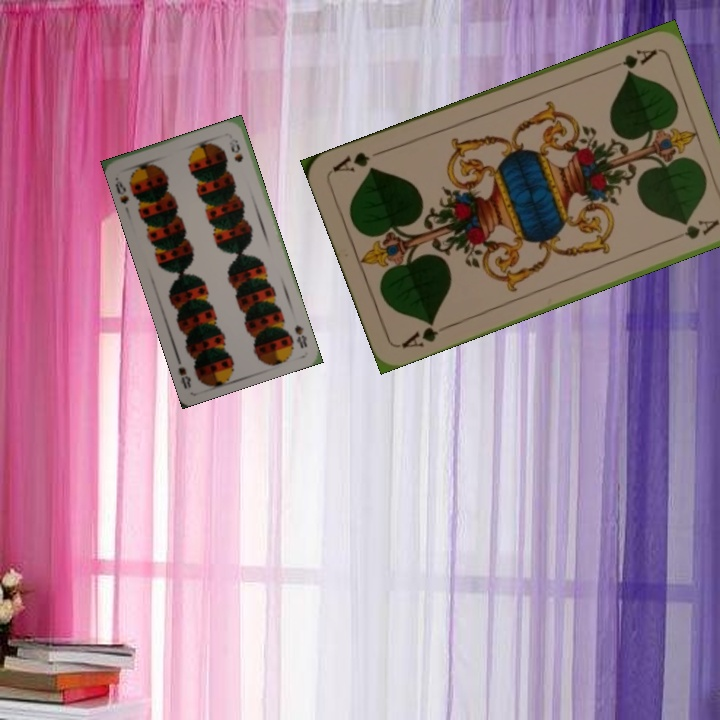GA: (397, 316, 453, 351), (602, 45, 660, 74)
S8: (111, 173, 131, 207), (290, 321, 310, 351)
